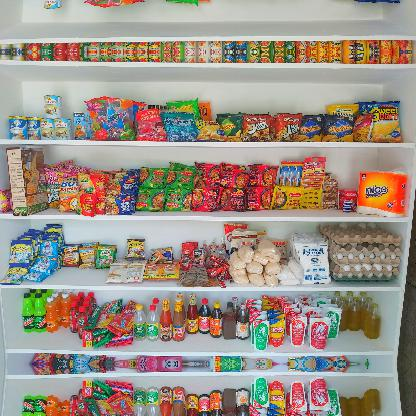Koko-Krunch: (5, 146, 51, 218)
